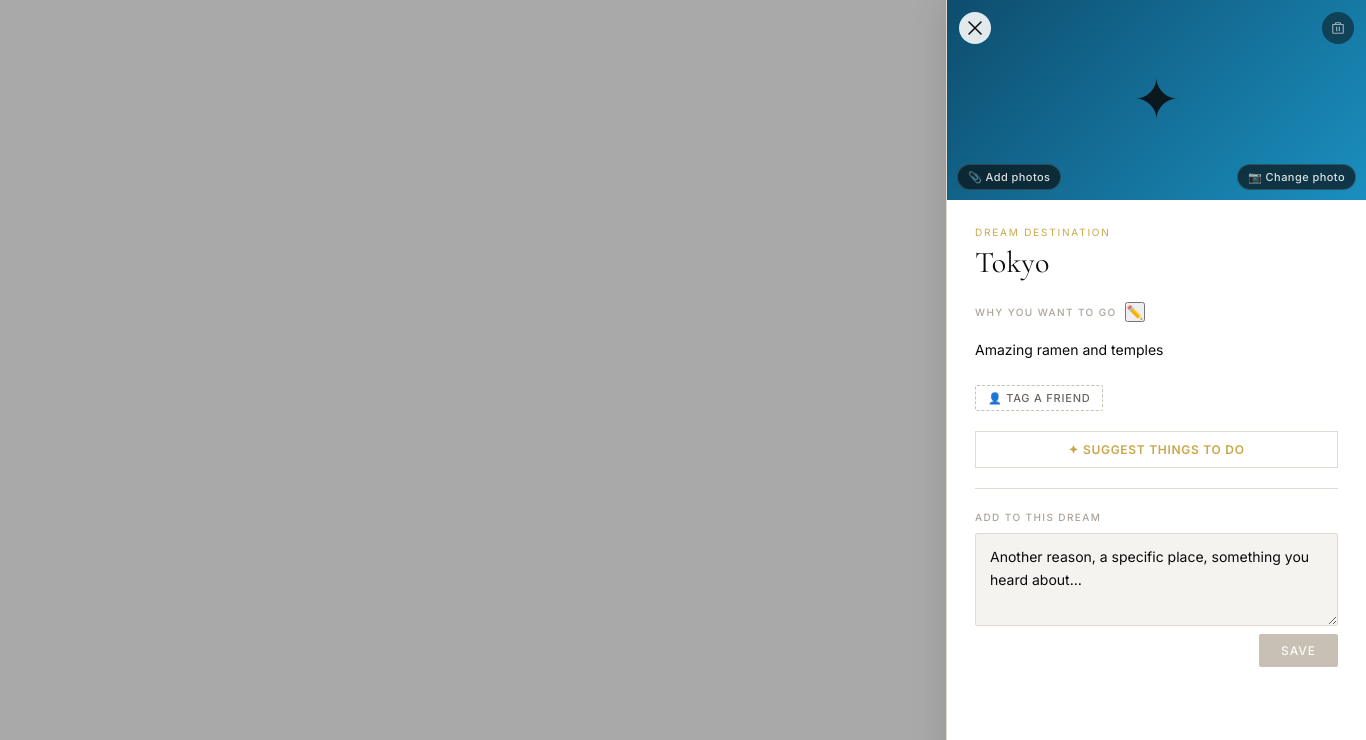
Test: TT28: DreamDetail dreamNote inline editing › Cancel closes edit mode without saving
Click the button "✏️" at (1135,312), box [1125, 302, 1145, 322]
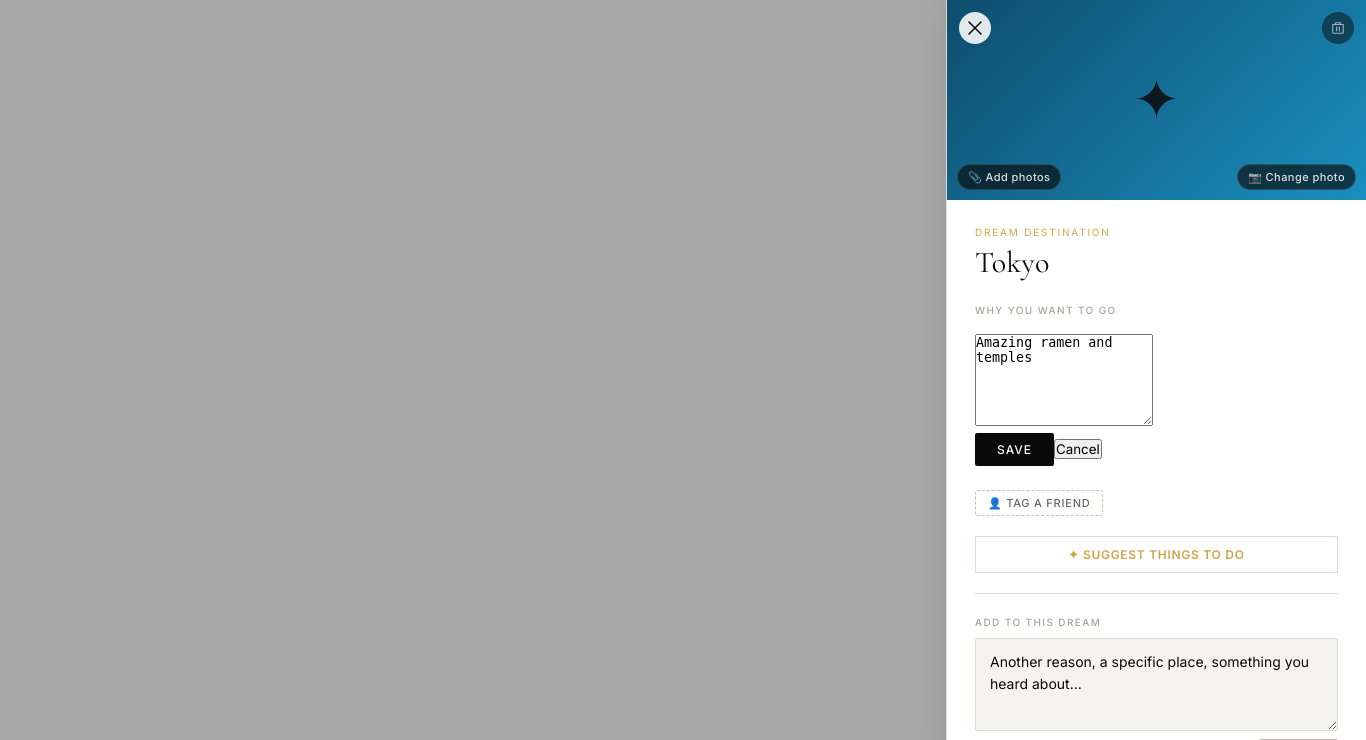
Click the button "Cancel" at (1078,449), box [1054, 439, 1102, 459]
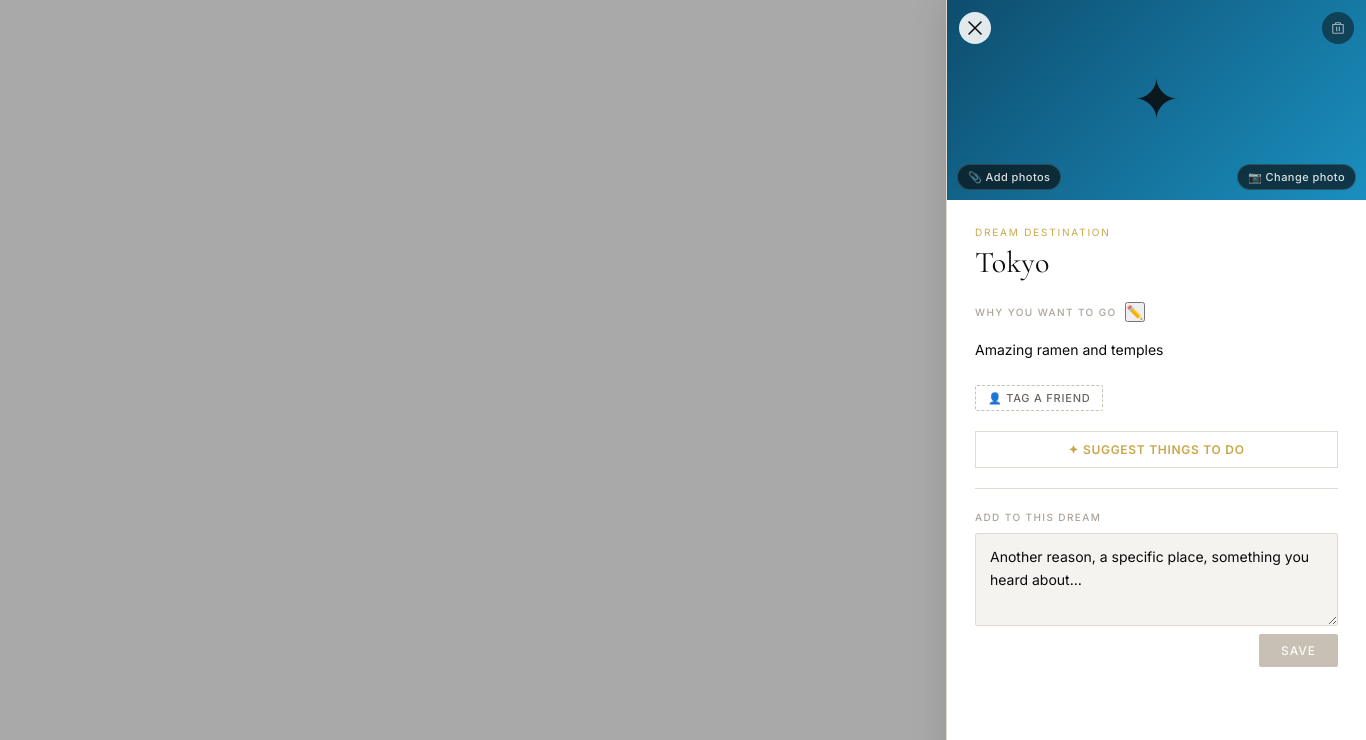
Result: the button "✏️" is shown at [1125, 302, 1145, 322]
